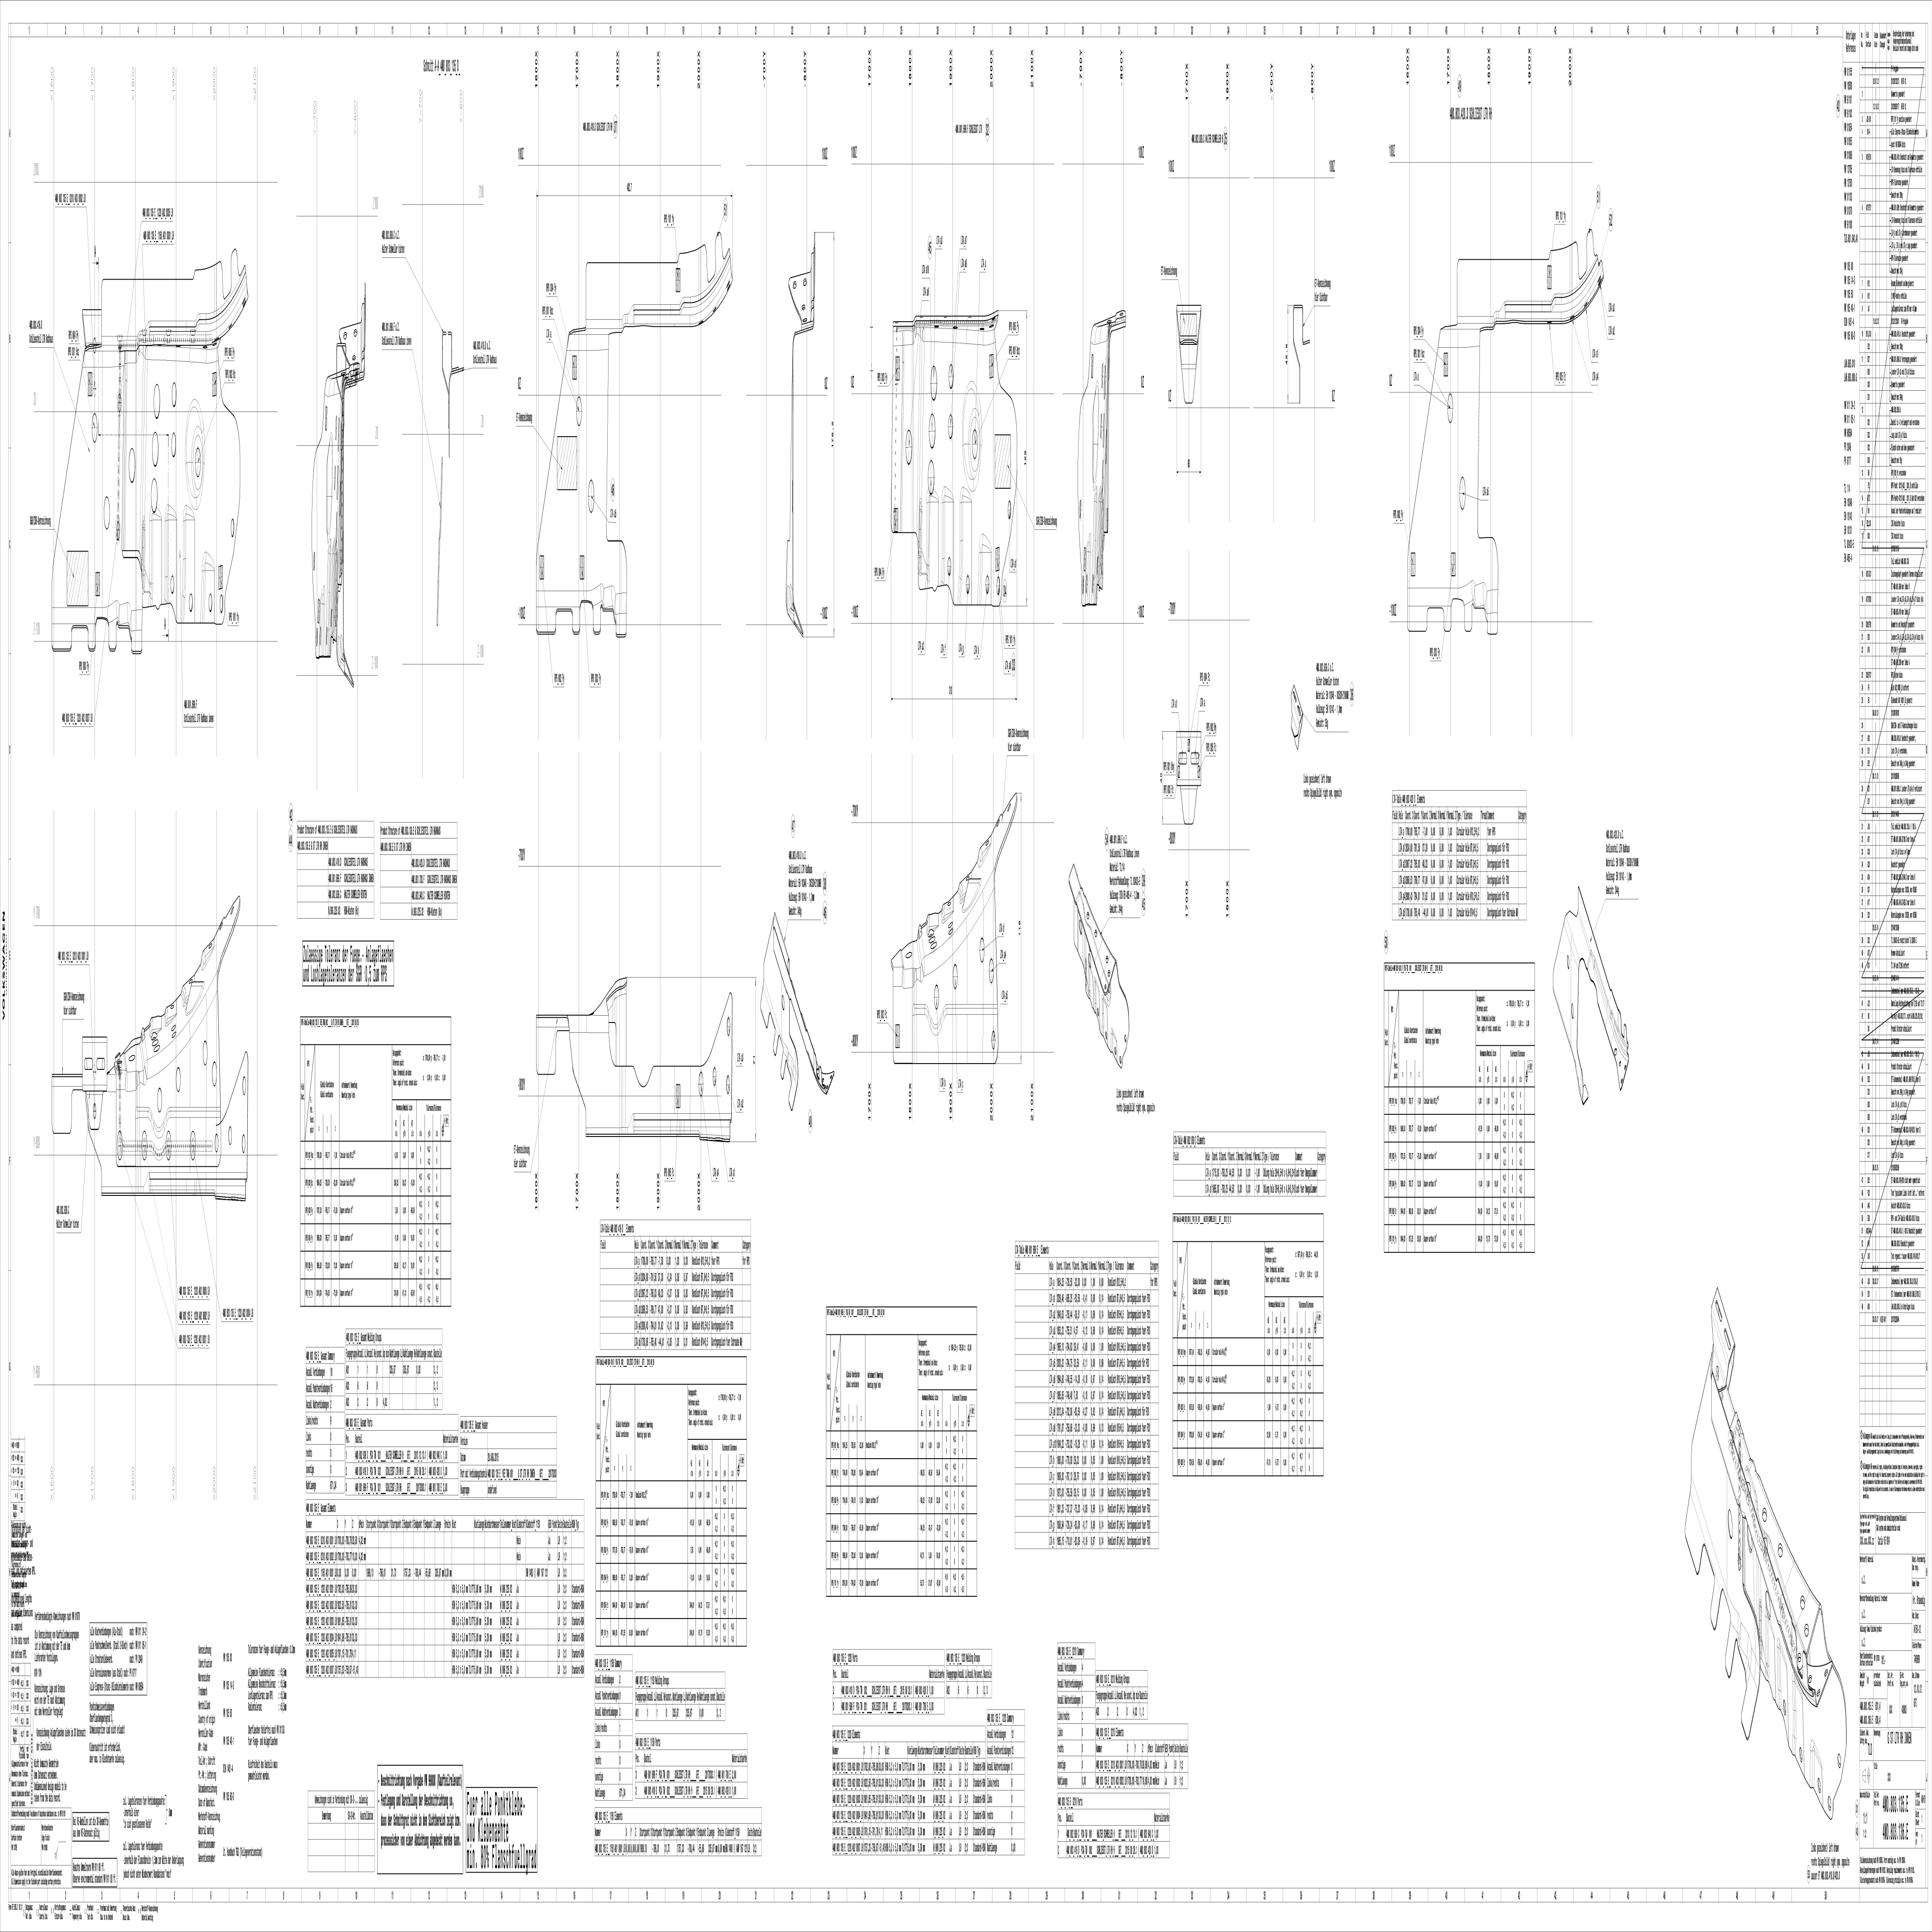Embossment: (1789, 1683, 1806, 1764), (1773, 1642, 1792, 1709), (1810, 1741, 1824, 1798), (1102, 996, 1109, 1046), (1093, 977, 1100, 1017), (1111, 1028, 1118, 1060)
InnerContour: (150, 382, 165, 421), (149, 430, 163, 467), (925, 458, 936, 495), (904, 428, 915, 465), (1458, 476, 1468, 513), (587, 478, 596, 517), (127, 448, 136, 485), (927, 412, 936, 449), (929, 364, 938, 402), (103, 494, 111, 529), (150, 478, 159, 513), (88, 414, 99, 442), (575, 395, 584, 428), (1445, 393, 1454, 425), (1725, 1507, 1734, 1539), (173, 1065, 182, 1093), (170, 382, 179, 409), (978, 936, 987, 962), (932, 984, 941, 1010), (697, 1070, 706, 1097), (200, 1040, 209, 1067), (987, 955, 994, 985), (170, 430, 177, 458), (211, 1058, 218, 1086), (156, 1086, 163, 1115), (947, 363, 954, 389), (952, 962, 959, 989), (226, 1125, 235, 1146), (989, 1030, 998, 1049), (1798, 1592, 1806, 1612), (947, 554, 954, 577), (239, 1132, 246, 1155), (948, 414, 954, 441), (188, 593, 195, 612), (964, 575, 971, 594), (984, 575, 991, 594), (725, 1072, 731, 1097), (1760, 1506, 1767, 1523), (230, 517, 235, 540), (711, 1065, 717, 1088), (170, 575, 175, 596), (725, 1016, 731, 1037), (1776, 1541, 1783, 1557), (242, 1076, 248, 1097), (207, 593, 212, 612), (219, 593, 225, 612), (996, 575, 1001, 594), (791, 280, 798, 292), (1803, 1622, 1808, 1638), (906, 950, 913, 961), (801, 278, 809, 287), (947, 920, 954, 929), (352, 327, 357, 338), (1093, 929, 1099, 939), (1104, 955, 1109, 964), (1824, 1668, 1829, 1677), (1123, 1035, 1129, 1044), (1120, 1054, 1123, 1065), (343, 331, 347, 340), (352, 354, 356, 363), (1086, 911, 1090, 920), (1108, 970, 1111, 978)
Notch: (1720, 1637, 1757, 1727), (1688, 1543, 1725, 1624), (1707, 1587, 1739, 1668), (775, 1058, 800, 1106), (214, 258, 241, 303), (699, 244, 724, 288), (67, 1088, 88, 1138), (768, 1035, 789, 1079), (1573, 239, 1594, 283), (761, 1012, 782, 1053), (552, 605, 575, 635), (1449, 596, 1468, 630), (67, 625, 92, 649), (579, 598, 594, 635), (94, 616, 111, 648), (600, 603, 617, 635), (1470, 603, 1490, 632), (115, 621, 134, 648), (1426, 605, 1445, 632)
